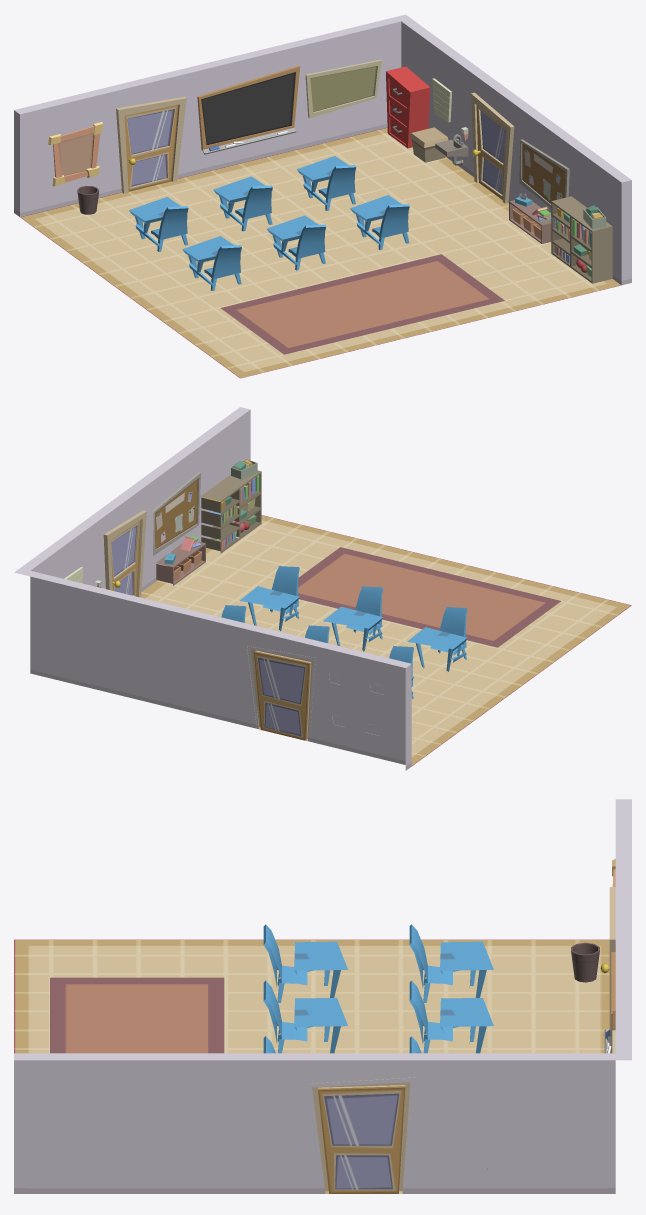
The model's file is S_ClassroomLevel_08.FBX.
3 renders of one model, top to bottom at view 1: azimuth 30°, elevation 25°; view 2: azimuth 150°, elevation 25°; view 3: azimuth 270°, elevation 25°, orthographic. The views are drawn at different scales.
Visible parts, largest first — view 1: S_FloorPlane, S_Wall_Left, S_Wall_Right, S_Rug, S_Chalkboard, S_Bookshelf, S_Door_LeftWall, S_Board01, S_Painting, S_BulletonBoard, S_CabinetFrame, S_Door_RightWall (+13 smaller); view 2: S_Wall_Left, S_FloorPlane, S_Rug, S_Wall_Right, S_Bookshelf, S_Door_LeftWall, S_BulletonBoard, S_Desk004, S_Desk006, S_Desk005, S_Door_RightWall, S_BoxShelf (+2 smaller); view 3: S_Wall_Right, S_FloorPlane, S_Rug, S_Door_RightWall, S_Wall_Left, S_Desk006, S_Desk003, S_Desk005, S_Desk002, S_Doorframe_RightWall, S_Trashcan, S_Doorframe_LeftWall (+1 smaller).
Part boxes in pixels (x1,y1,x2,y2): S_FloorPlane: [20, 127, 621, 378]; S_Wall_Left: [14, 14, 405, 217]; S_Wall_Right: [401, 15, 631, 285]; S_Rug: [220, 254, 504, 354]; S_Chalkboard: [197, 65, 300, 154]; S_Bookshelf: [551, 196, 612, 283]; S_Door_LeftWall: [124, 104, 178, 191]; S_Board01: [305, 59, 382, 118]; S_Painting: [48, 122, 102, 186]; S_BulletonBoard: [519, 139, 569, 207]; S_CabinetFrame: [386, 66, 430, 148]; S_Door_RightWall: [472, 105, 506, 199]; S_Wall_Left: [15, 570, 411, 770]; S_FloorPlane: [140, 515, 631, 766]; S_Rug: [298, 547, 560, 647]; S_Wall_Right: [14, 407, 250, 591]; S_Bookshelf: [201, 459, 261, 553]; S_Door_LeftWall: [254, 651, 310, 740]; S_BulletonBoard: [152, 472, 200, 555]; S_Desk004: [239, 566, 299, 631]; S_Desk006: [407, 607, 467, 671]; S_Desk005: [323, 586, 382, 651]; S_Door_RightWall: [111, 520, 140, 596]; S_BoxShelf: [156, 535, 205, 585]; S_Wall_Right: [14, 1053, 631, 1193]; S_FloorPlane: [14, 939, 609, 1193]; S_Rug: [50, 977, 224, 1053]; S_Door_RightWall: [318, 1086, 405, 1193]; S_Wall_Left: [615, 799, 631, 1059]; S_Desk006: [263, 924, 347, 1002]; S_Desk003: [409, 924, 493, 1002]; S_Desk005: [263, 980, 347, 1053]; S_Desk002: [409, 980, 493, 1053]; S_Doorframe_RightWall: [307, 1077, 414, 1191]; S_Trashcan: [571, 942, 599, 982]; S_Doorframe_LeftWall: [609, 887, 615, 1030].
Bounding box in the file's own units: 329 × 82.42 × 329.
